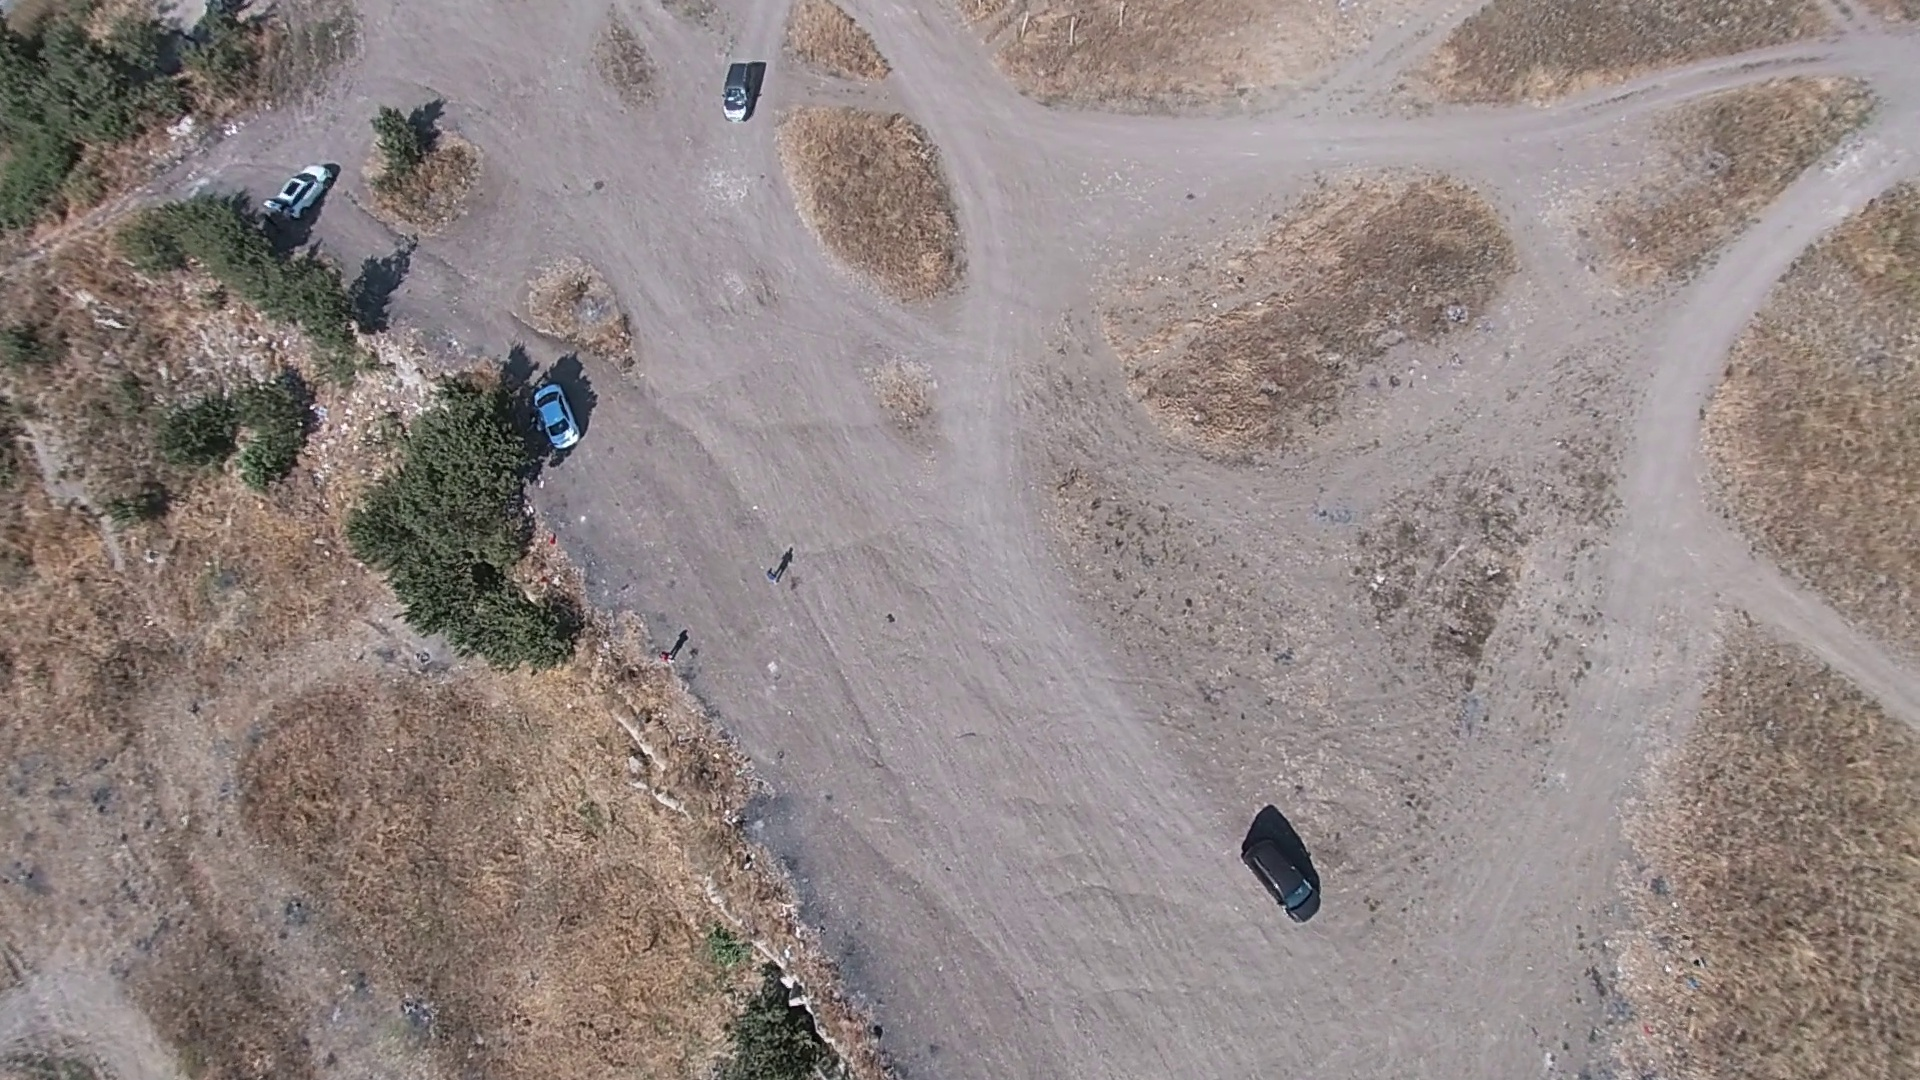arac: (1239, 812, 1325, 919), (260, 156, 337, 226), (527, 380, 577, 450), (718, 58, 764, 122)
insan: (759, 546, 788, 586), (655, 643, 683, 667)
